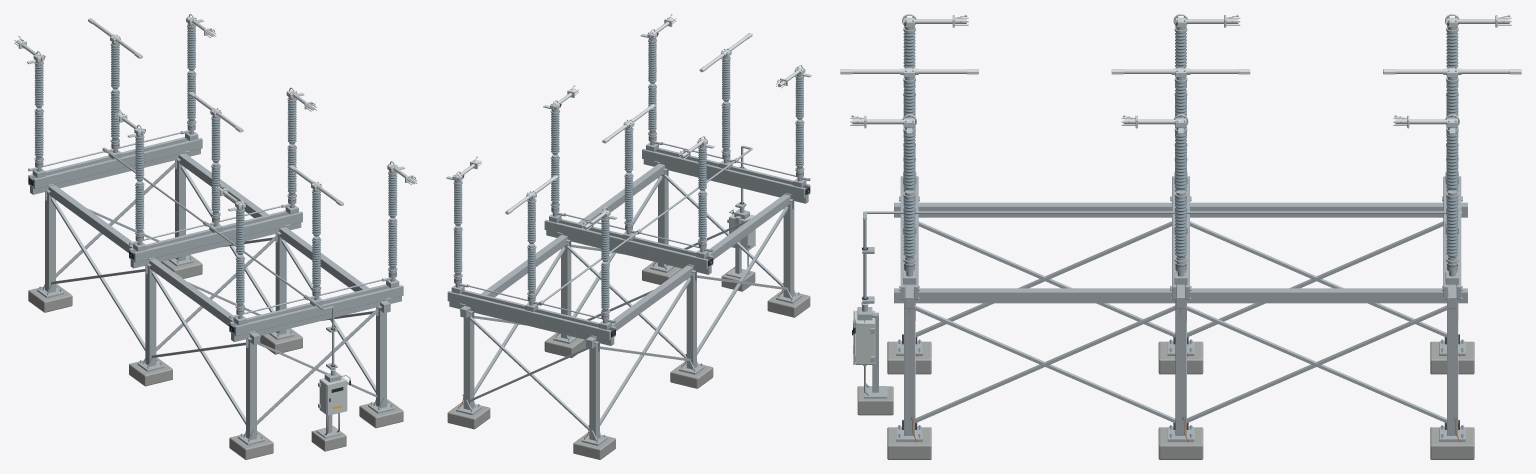
File: horizontal-disconnect-open.glb
3 renders of one model, left to right at view 1: azimuth 30°, elevation 25°; view 2: azimuth 150°, elevation 25°; view 3: azimuth 270°, elevation 25°, orthographic. The views are drawn at different scales.
Parts seen in each view (by area): view 1: Object100535, Object100536, Object100587, Object100259, Object100030, Object100016, Object100574, Object100573, Object100245, Object100589, Object100032, Object100261 (+21 smaller); view 2: Object100535, Object100536, Object100260, Object100031, Object100588, Object100246, Object100573, Object100245, Object100016, Object100261, Object100032, Object100589 (+22 smaller); view 3: Object100536, Object100535, Object100884, Object100017, Object100543, Object100541, Object100542, Object100544, Object100574, Object100246, Object100539, Object100537 (+15 smaller).
Part boxes in pixels (x1,y1,x2,y2): Object100535: (48, 185, 260, 344); Object100536: (178, 153, 390, 313); Object100587: (234, 285, 403, 336); Object100259: (33, 138, 202, 188); Object100030: (133, 211, 302, 262); Object100016: (145, 266, 156, 366); Object100574: (376, 308, 386, 408); Object100573: (246, 340, 256, 439); Object100245: (45, 192, 55, 292); Object100589: (231, 296, 401, 341); Object100032: (130, 222, 301, 268); Object100261: (30, 149, 200, 194); Object100535: (586, 194, 790, 348); Object100536: (460, 163, 664, 317); Object100260: (447, 291, 611, 340); Object100031: (544, 220, 708, 269); Object100588: (642, 148, 805, 198); Object100246: (463, 313, 474, 409); Object100573: (783, 201, 794, 298); Object100245: (589, 344, 599, 440); Object100016: (686, 273, 696, 369); Object100261: (449, 301, 614, 345); Object100032: (546, 230, 711, 274); Object100589: (643, 159, 808, 203); Object100536: (894, 288, 1467, 303); Object100535: (894, 202, 1467, 217); Object100884: (915, 211, 1446, 213); Object100017: (1175, 300, 1186, 435); Object100543: (1186, 305, 1446, 422); Object100541: (915, 305, 1175, 423); Object100542: (915, 305, 1175, 422); Object100544: (1186, 305, 1446, 423); Object100574: (904, 300, 914, 435); Object100246: (1447, 300, 1457, 435); Object100539: (1187, 221, 1443, 337); Object100537: (915, 221, 1171, 337).
Bounding box in the file's own units: 4.9 × 6.82 × 12.24.
